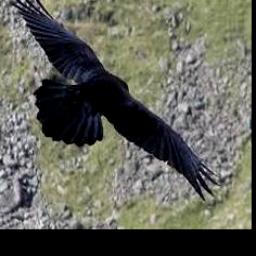Crow: (10, 0, 221, 202)
